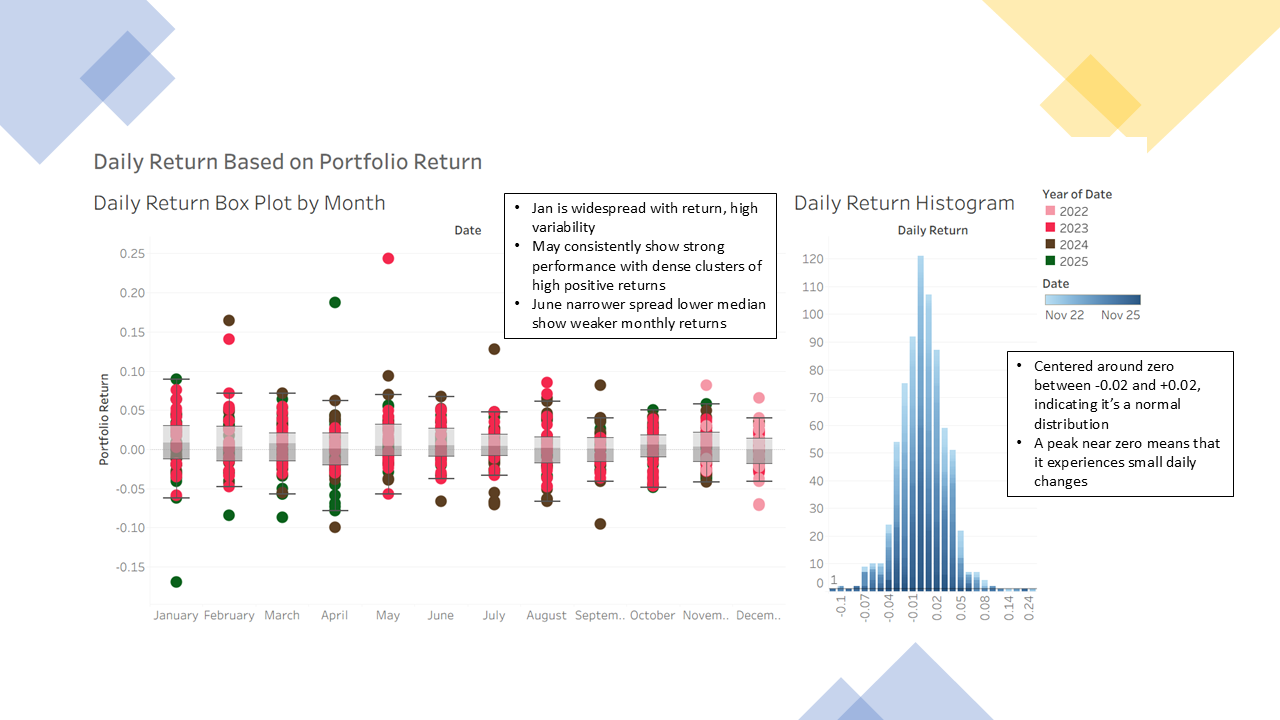

Layout of this report page (visuals, bound fields, positions):
{"tool":"tableau","page":{"name":"Daily Return PR","canvas":[1000,1000],"units":"permille","ordinal":2},"visuals":[{"type":"text","box":[12.5,10.9,975,87.1]},{"type":"worksheet","title":"Daily Return","mark":"Circle","cols":["Date"],"box":[12.5,98,362.5,891.1]},{"type":"worksheet","title":"Histogram","mark":"Bar","rows":["Calculation_501306942835818539"],"box":[375,98,362.5,891.1]},{"type":"legend","title":"Daily Return","param":"[federated.0bg4tcu033rbq71aozf0k10hee3w].[yr:Date:ok]","box":[737.5,98,250,182.8]},{"type":"legend","title":"Histogram","param":"[federated.0bg4tcu033rbq71aozf0k10hee3w].[none:Date:qk]","box":[737.5,280.8,250,110.5]}]}

Visuals, with their boxes on the dashboard's canvas, which has no fixed pixel size, in thousandths of its width and height (x1, y1, x2, y2). These are canvas units, not pixel positions in the 1280x720 screenshot, which may show the page scaled, cropped or inside an application window:
text: 12/11/988/98
"Daily Return" worksheet (Circle marks): 12/98/375/989
"Histogram" worksheet (Bar marks): 375/98/738/989
"Daily Return" legend: 738/98/988/281
"Histogram" legend: 738/281/988/391
